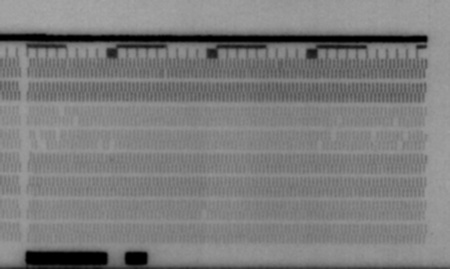Broken hole: (395, 130, 412, 152), (31, 131, 49, 150), (94, 139, 117, 153), (333, 114, 344, 131), (327, 130, 338, 143), (369, 130, 380, 143), (199, 210, 210, 223), (56, 105, 67, 117), (52, 129, 63, 141), (315, 141, 326, 153), (70, 114, 80, 127), (392, 116, 402, 128)
Oblique printing: (272, 57, 285, 73), (56, 57, 68, 72), (158, 68, 170, 81)
